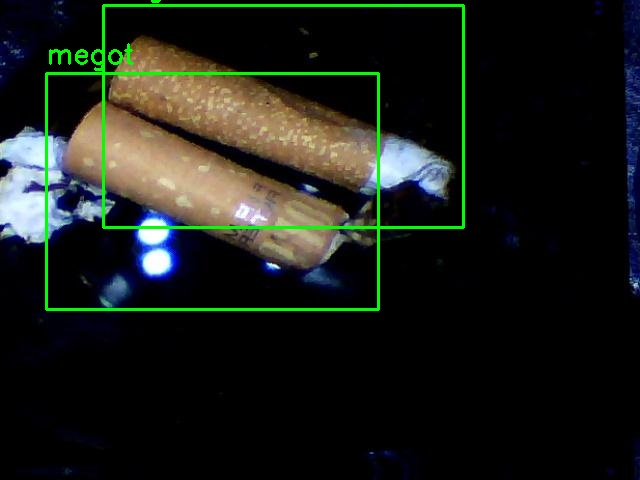megot: (103, 5, 463, 227), (46, 73, 378, 309)
